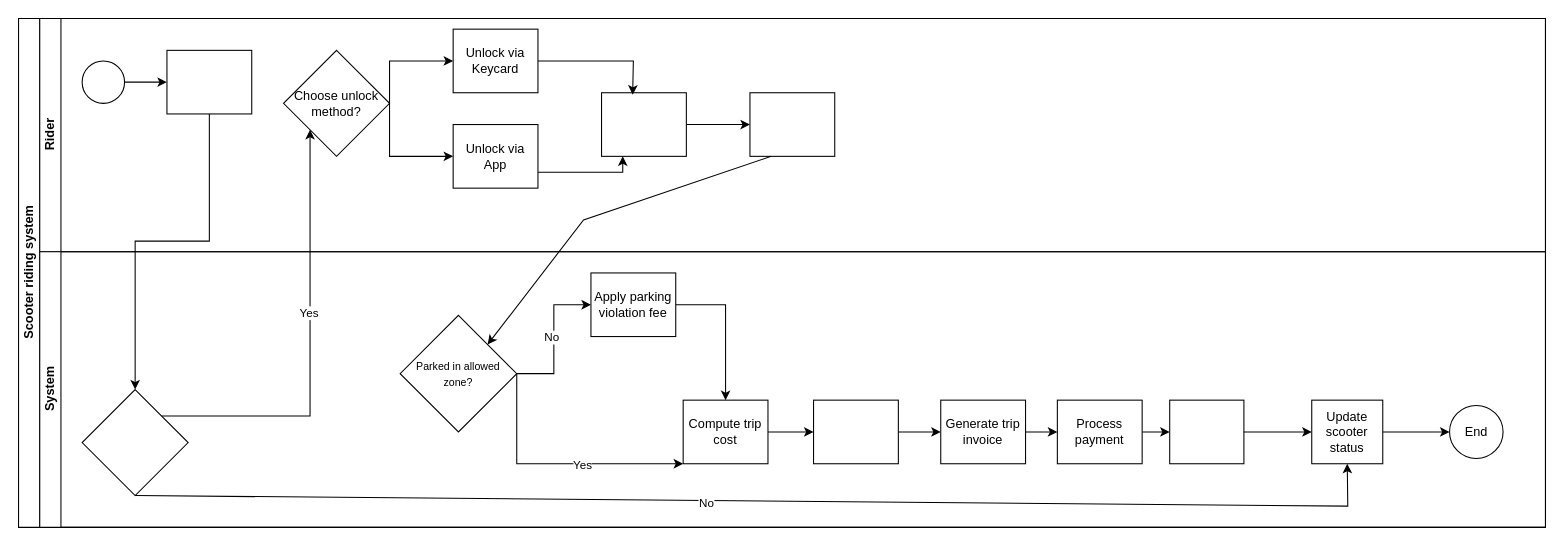
Some shapes in this 1565 by 546 pixel diagram are drawn without their labels. Here are the shapes that lost their labels. From the top down, the box of each, then its label:
(81, 60, 125, 103): Start
(166, 49, 252, 114): Locate scooter
(600, 92, 686, 156): Ride scooter
(749, 92, 835, 156): End ride
(81, 388, 188, 496): Scooter available?
(812, 399, 898, 464): Create trip record
(1169, 399, 1244, 464): Confirm payment
